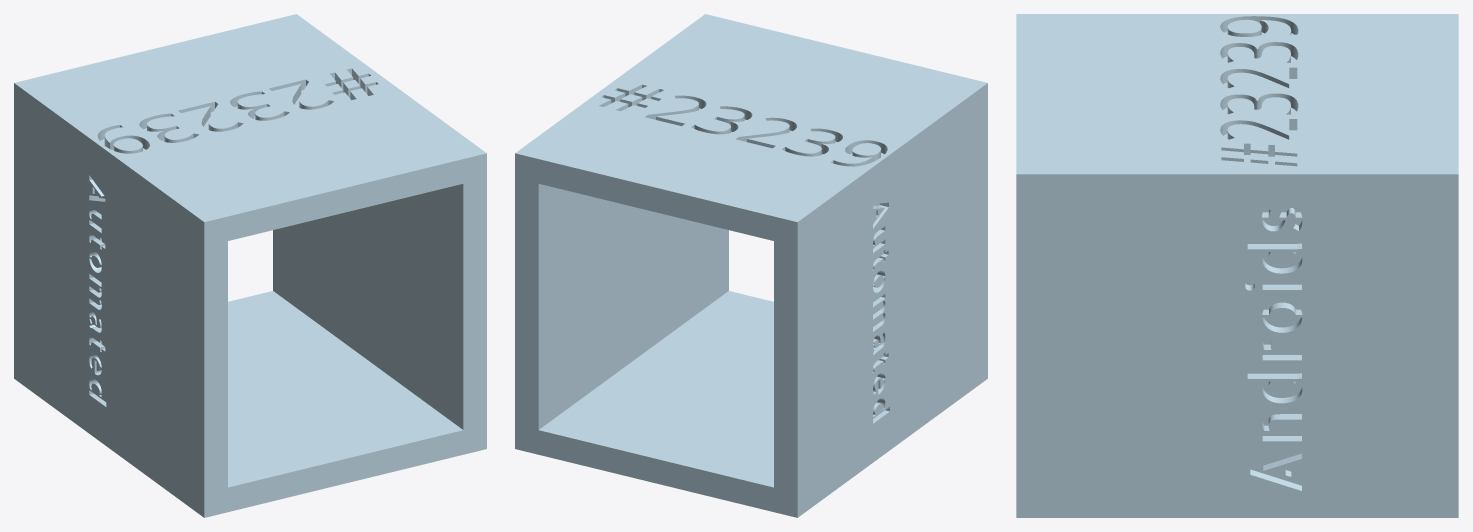
The model's file is TeamProp.gltf.
3 views of the same model, side by side, from view 1: azimuth 30°, elevation 25°; view 2: azimuth 150°, elevation 25°; view 3: azimuth 270°, elevation 25° (orthographic). The views are drawn at different scales.
Parts seen in each view (by area): view 1: Part 1; view 2: Part 1; view 3: Part 1.
Boxes of the visible parts, x1,y1,x2,y2 form: Part 1: (14, 14, 486, 517); Part 1: (515, 14, 987, 517); Part 1: (1016, 14, 1458, 517).
Bounding box in the file's own units: 0.0762 × 0.0762 × 0.0889.
